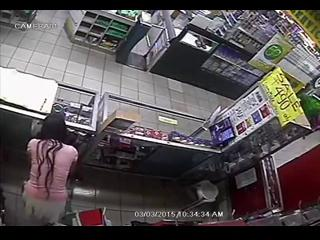Normal: (21, 113, 79, 225)
